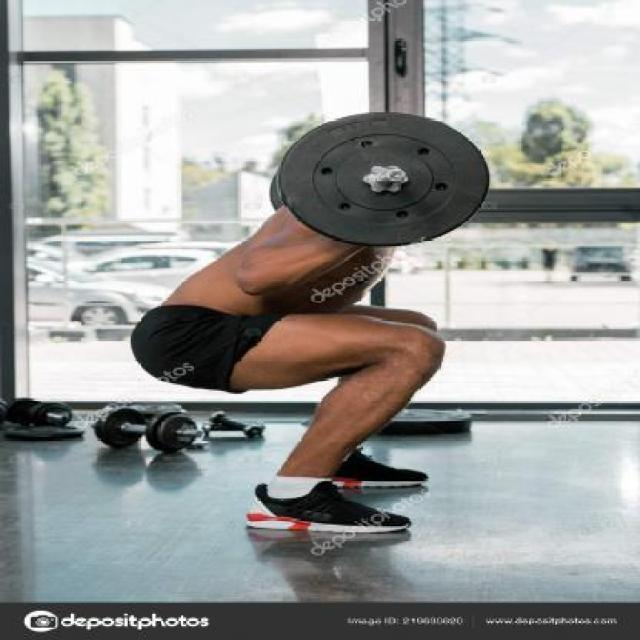barbell: (277, 106, 497, 249)
